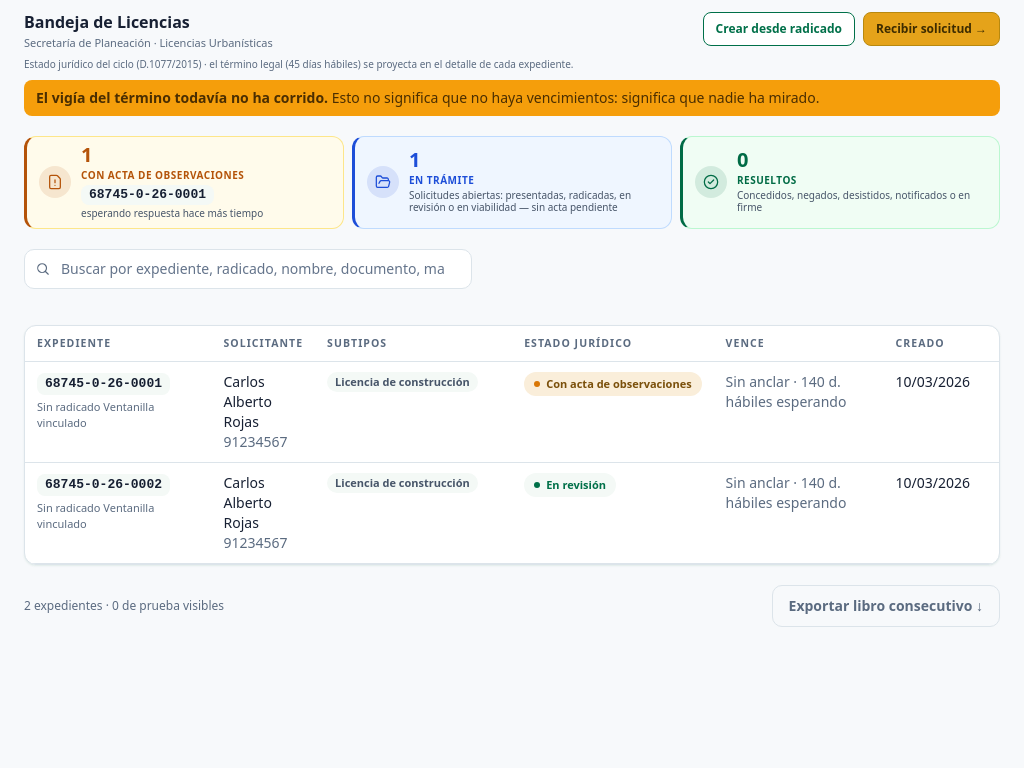
it: BandejaLicenciasClient — buscador rápido › filtra por estado jurídico (etiqueta legible)
The image size is (1024, 768).
Expected: the text "68745-0-26-0002" is shown, [37,474,170,496]
Replace the text in the search field named "Buscar en la bandeja de licencias por expediente, radicado, solicitante, documento, matrícula inmobiliaria, tipo o estad" with "acta de observaciones": (248, 269) [24,249,472,289]
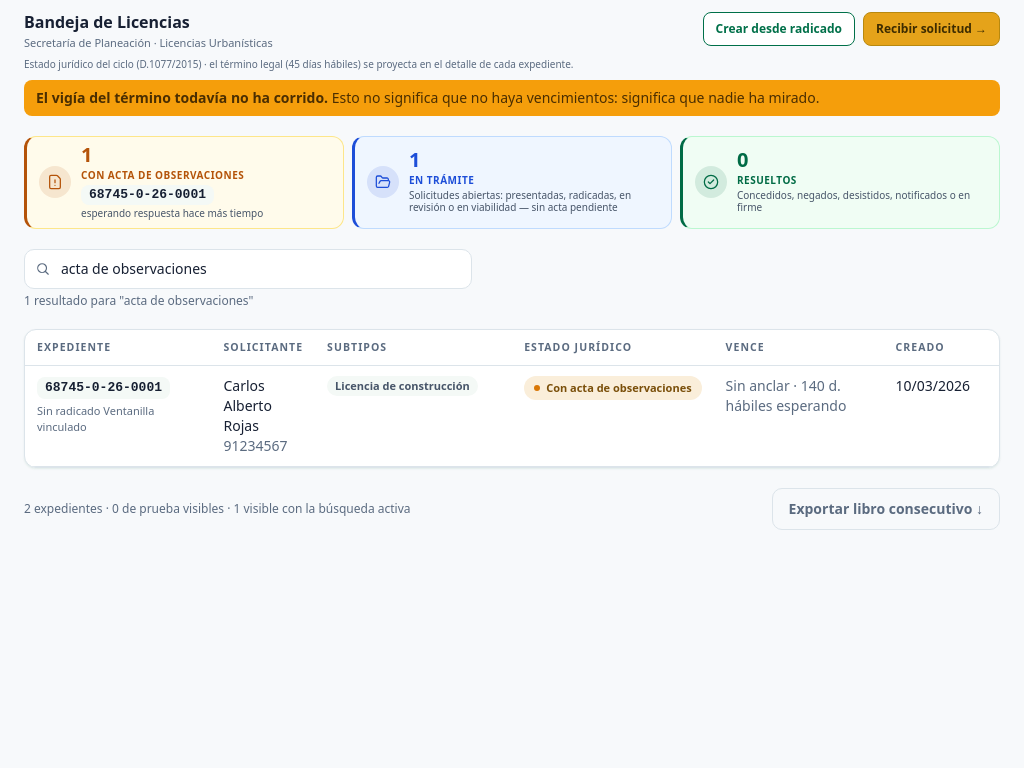
Expected: the text "68745-0-26-0001" next to "Carlos Alberto Rojas" is shown, [45,380,162,395]
Expected: the link "68745-0-26-0002" is gone
